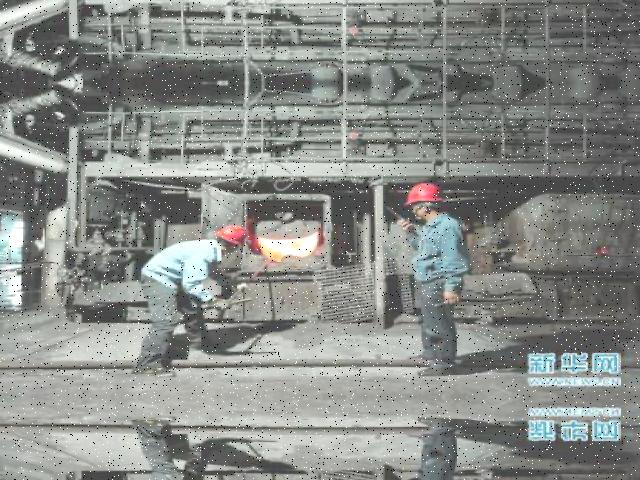Helmet: (399, 178, 443, 218), (208, 218, 255, 251)
